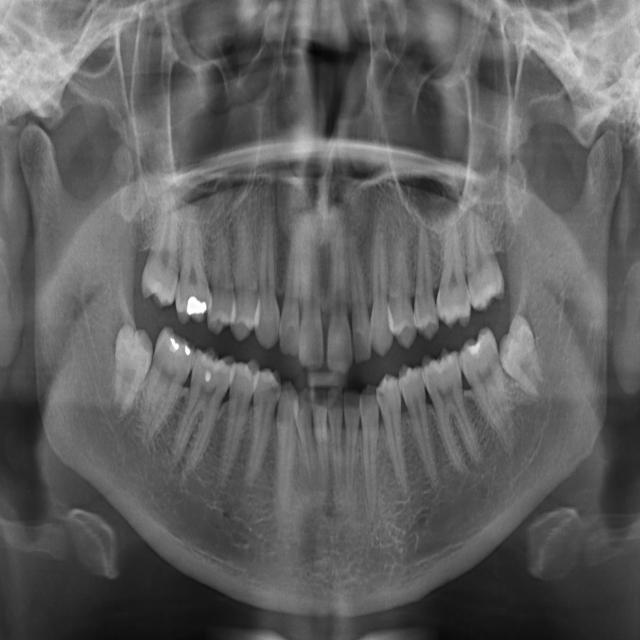AGS Medikal Implant: (341, 223, 374, 366)
AMerOss Implant: (362, 208, 395, 361)
Amalgam filling: (382, 224, 418, 355)
Anthogyr Implant: (402, 208, 444, 347)
Bicon Implant: (420, 201, 476, 336)
BioHorizons Implant: (450, 178, 511, 317)
Biomet 3i Implant: (490, 308, 551, 409)
Blue Sky Bio Implant: (453, 322, 523, 462)
Camlog Implant: (453, 421, 454, 422)
Caries: (133, 181, 194, 313)
Composite filling: (396, 358, 445, 496)
Cowellmedi Implant: (376, 369, 413, 503)
Crown: (360, 380, 380, 524)
DENTSPLY Implant: (342, 388, 359, 514)
Dentatus Implant: (326, 384, 343, 495)
Dentis Implant: (311, 386, 330, 491)
Dentium Implant: (293, 385, 320, 485)
Euroteknika Implant: (275, 379, 297, 526)
Filling: (236, 363, 284, 490)
Frontier Implant: (201, 351, 264, 496)
Hiossen Implant: (170, 197, 219, 330)
Implant: (114, 322, 205, 452)
Implant Direct: (164, 340, 238, 484)
Keystone Dental Implant: (107, 318, 156, 428)
MIS Implant: (203, 190, 240, 338)
Mandible: (228, 203, 262, 347)
Maxilla: (252, 175, 287, 354)
Megagen Implant: (278, 208, 306, 362)
Neodent Implant: (298, 201, 329, 377)
Neoss Implant: (327, 207, 353, 375)
